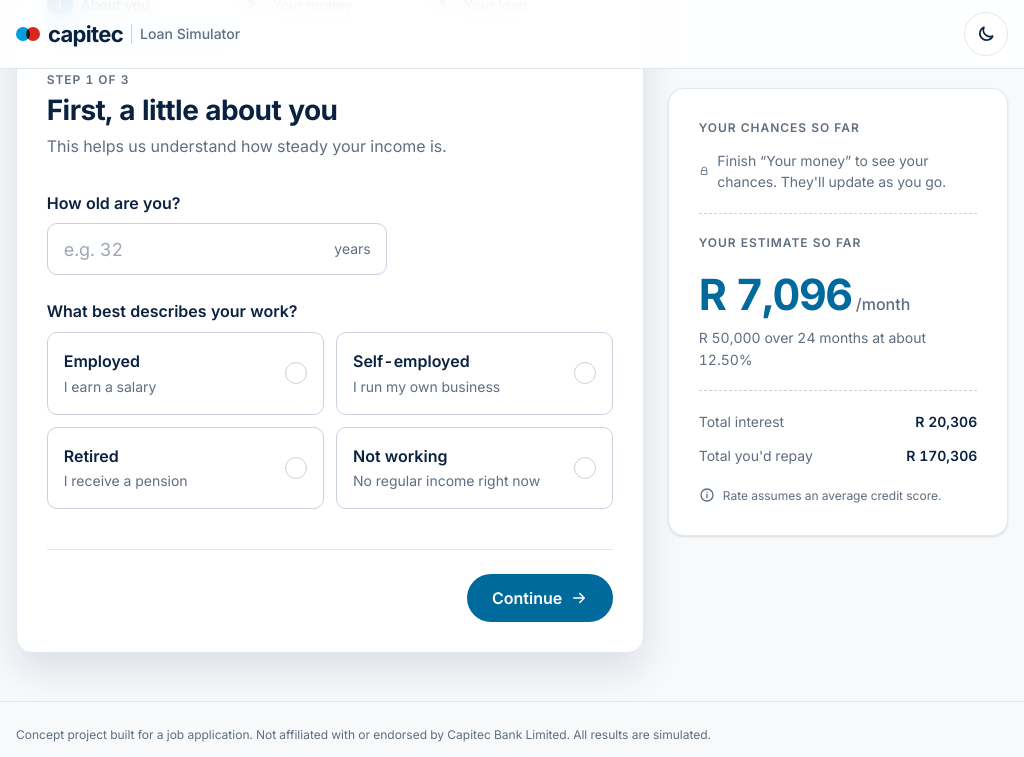
Loan simulator flow › clears an error as soon as the field is corrected
(page scrolled)
Click the button "Continue": (540, 598) [467,574,613,622]
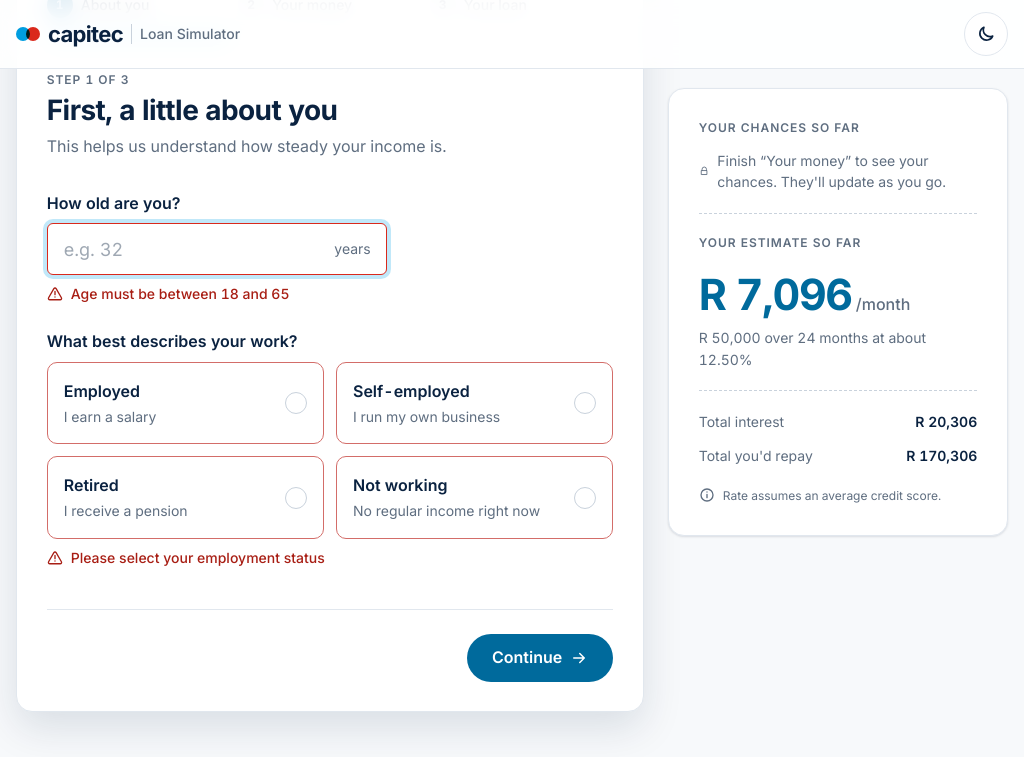
Result: the text "Age must be between 18 and 65" is shown at [47,285,290,302]
In the field labelled "How old are you?": (217, 249) [47,223,387,275], type "3"
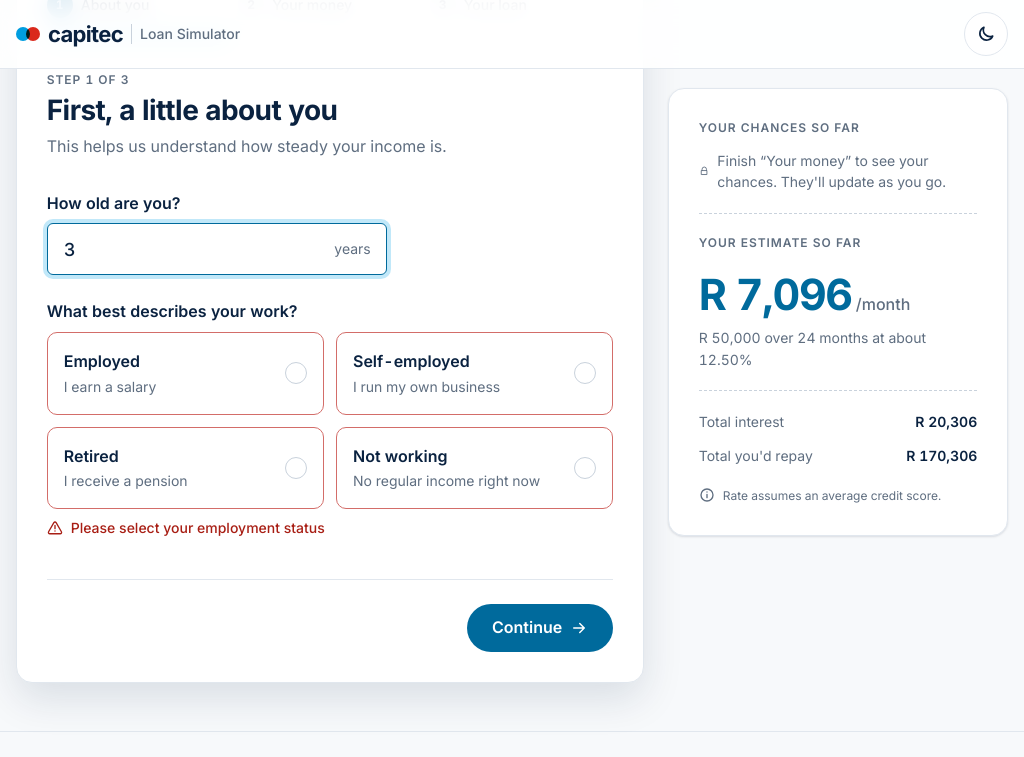
Result: the text "Age must be between 18 and 65" is gone
